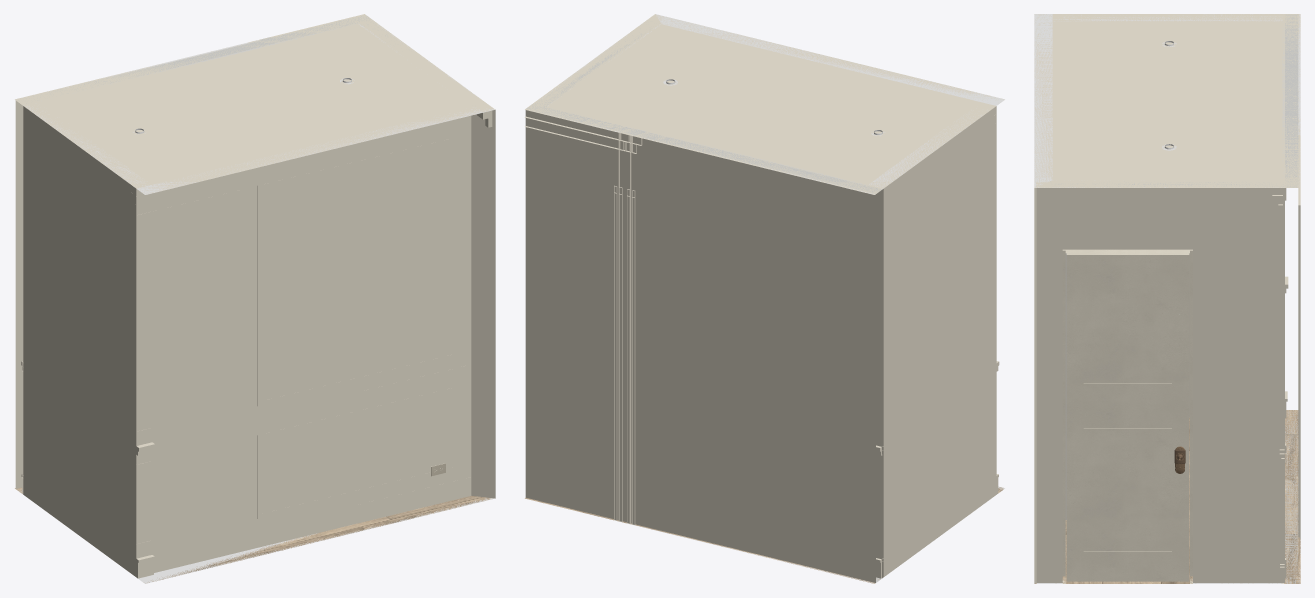
File: upstairs-closet-east-4062a6bbdb71.glb
The picture shows the model from 3 angles, left to right: view 1: azimuth 30°, elevation 25°; view 2: azimuth 150°, elevation 25°; view 3: azimuth 270°, elevation 25°; orthographic projection.
Parts seen in each view (by area): view 1: upstairs-closet-east-6e269356ae8bfd70, upstairs-closet-east-af27112094daa34f, upstairs-closet-east-9d91b47435c6fb33, upstairs-closet-east-eb02897c2e79e2b1, upstairs-closet-east-1e72e6a7b41a2abd, upstairs-closet-east-23111371382874c8, upstairs-closet-east-eee6b1654fa02f80, upstairs-closet-east-2575515a05775d9e, upstairs-closet-east-414385708a06acff, upstairs-closet-east-3b3c25625ac8bb9a, upstairs-closet-east-1e3385c37a14aaf6, upstairs-closet-east-a5ac74805be43788; view 2: upstairs-closet-east-eb02897c2e79e2b1, upstairs-closet-east-af27112094daa34f, upstairs-closet-east-9d91b47435c6fb33, upstairs-closet-east-6e269356ae8bfd70, upstairs-closet-east-64efeecf845bccca, upstairs-closet-east-4f926054fd5f2d50, upstairs-closet-east-ed88f5d795cf56b6, upstairs-closet-east-dacde169422abe77, upstairs-closet-east-d84e51967c6a028c, upstairs-closet-east-23111371382874c8, upstairs-closet-east-3b3c25625ac8bb9a, upstairs-closet-east-e2e3a4ca5a8c504a; view 3: upstairs-closet-east-95684fa6df9df9bf, upstairs-closet-east-9d91b47435c6fb33, upstairs-closet-east-c33a54857fb1d4db, upstairs-closet-east-eb02897c2e79e2b1, upstairs-closet-east-6e269356ae8bfd70, upstairs-closet-east-2575515a05775d9e, upstairs-closet-east-664af2d0241557dd, upstairs-closet-east-3b3c25625ac8bb9a, upstairs-closet-east-af27112094daa34f, upstairs-closet-east-e2e3a4ca5a8c504a, upstairs-closet-east-4f926054fd5f2d50, upstairs-closet-east-23111371382874c8 (+1 smaller).
Boxes of the visible parts, x1=… form: upstairs-closet-east-6e269356ae8bfd70: x1=136, y1=107, x2=495, y2=583; upstairs-closet-east-af27112094daa34f: x1=23, y1=105, x2=147, y2=576; upstairs-closet-east-9d91b47435c6fb33: x1=15, y1=14, x2=494, y2=194; upstairs-closet-east-eb02897c2e79e2b1: x1=15, y1=15, x2=371, y2=493; upstairs-closet-east-1e72e6a7b41a2abd: x1=257, y1=137, x2=456, y2=406; upstairs-closet-east-23111371382874c8: x1=132, y1=115, x2=471, y2=205; upstairs-closet-east-eee6b1654fa02f80: x1=257, y1=387, x2=456, y2=518; upstairs-closet-east-2575515a05775d9e: x1=15, y1=487, x2=491, y2=582; upstairs-closet-east-414385708a06acff: x1=148, y1=477, x2=471, y2=555; upstairs-closet-east-3b3c25625ac8bb9a: x1=362, y1=20, x2=492, y2=127; upstairs-closet-east-1e3385c37a14aaf6: x1=143, y1=364, x2=471, y2=444; upstairs-closet-east-a5ac74805be43788: x1=136, y1=189, x2=243, y2=435; upstairs-closet-east-eb02897c2e79e2b1: x1=525, y1=104, x2=883, y2=583; upstairs-closet-east-af27112094daa34f: x1=869, y1=106, x2=996, y2=576; upstairs-closet-east-9d91b47435c6fb33: x1=525, y1=14, x2=1004, y2=194; upstairs-closet-east-6e269356ae8bfd70: x1=655, y1=14, x2=1004, y2=490; upstairs-closet-east-64efeecf845bccca: x1=618, y1=132, x2=631, y2=523; upstairs-closet-east-4f926054fd5f2d50: x1=614, y1=185, x2=617, y2=520; upstairs-closet-east-ed88f5d795cf56b6: x1=619, y1=187, x2=622, y2=522; upstairs-closet-east-dacde169422abe77: x1=632, y1=190, x2=635, y2=525; upstairs-closet-east-d84e51967c6a028c: x1=627, y1=189, x2=629, y2=523; upstairs-closet-east-23111371382874c8: x1=657, y1=27, x2=995, y2=115; upstairs-closet-east-3b3c25625ac8bb9a: x1=535, y1=15, x2=664, y2=105; upstairs-closet-east-e2e3a4ca5a8c504a: x1=860, y1=102, x2=977, y2=184; upstairs-closet-east-95684fa6df9df9bf: x1=1036, y1=180, x2=1283, y2=583; upstairs-closet-east-9d91b47435c6fb33: x1=1034, y1=14, x2=1300, y2=187; upstairs-closet-east-c33a54857fb1d4db: x1=1066, y1=253, x2=1189, y2=581; upstairs-closet-east-eb02897c2e79e2b1: x1=1282, y1=14, x2=1300, y2=583; upstairs-closet-east-6e269356ae8bfd70: x1=1034, y1=14, x2=1052, y2=583; upstairs-closet-east-2575515a05775d9e: x1=1035, y1=410, x2=1300, y2=583; upstairs-closet-east-664af2d0241557dd: x1=1062, y1=249, x2=1192, y2=583; upstairs-closet-east-3b3c25625ac8bb9a: x1=1036, y1=182, x2=1284, y2=186; upstairs-closet-east-af27112094daa34f: x1=1053, y1=14, x2=1282, y2=417; upstairs-closet-east-e2e3a4ca5a8c504a: x1=1052, y1=21, x2=1282, y2=26; upstairs-closet-east-4f926054fd5f2d50: x1=1299, y1=205, x2=1300, y2=539; upstairs-closet-east-23111371382874c8: x1=1052, y1=14, x2=1063, y2=165.
Bounding box in the file's own units: 2.73 × 2.91 × 1.77.
17 materials, 3 textured.
